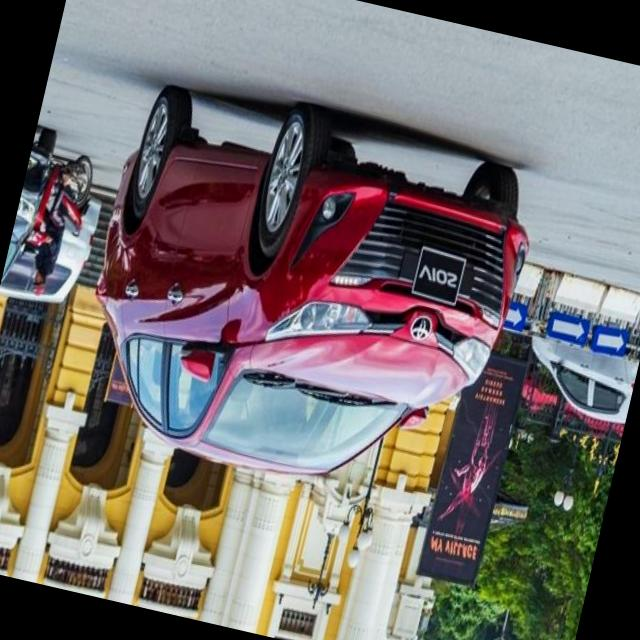ToyotaVios: (59, 66, 550, 522)
